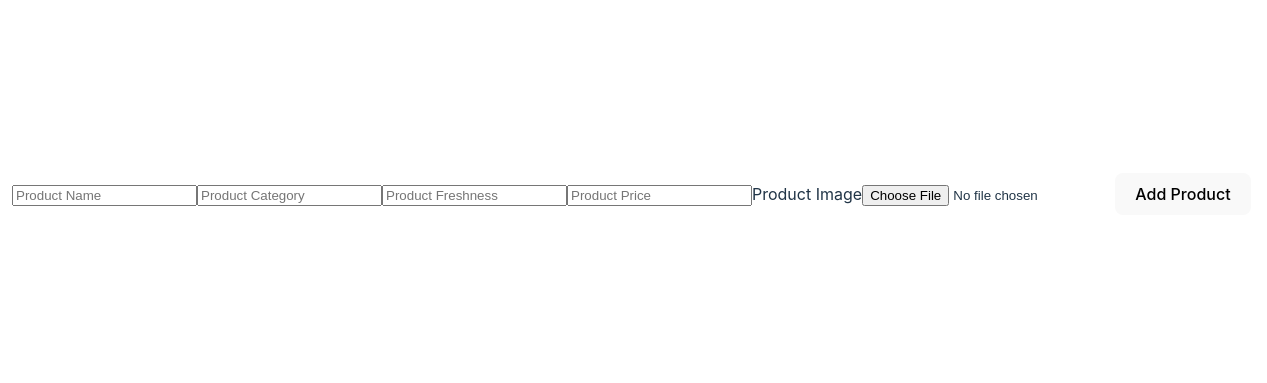
Test: CreateProduct Component › should not allow Product Name to be empty
The width and height of the screenshot is (1267, 383).
Click the button "Add Product" at (1183, 194), box [1115,173,1251,215]
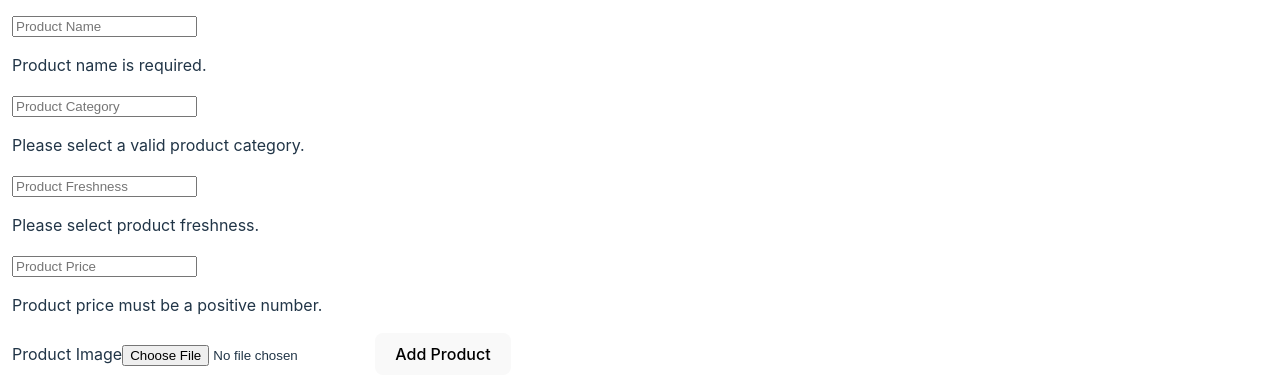
Check: the text "Product name is required." is shown, box [12,55,206,75]
